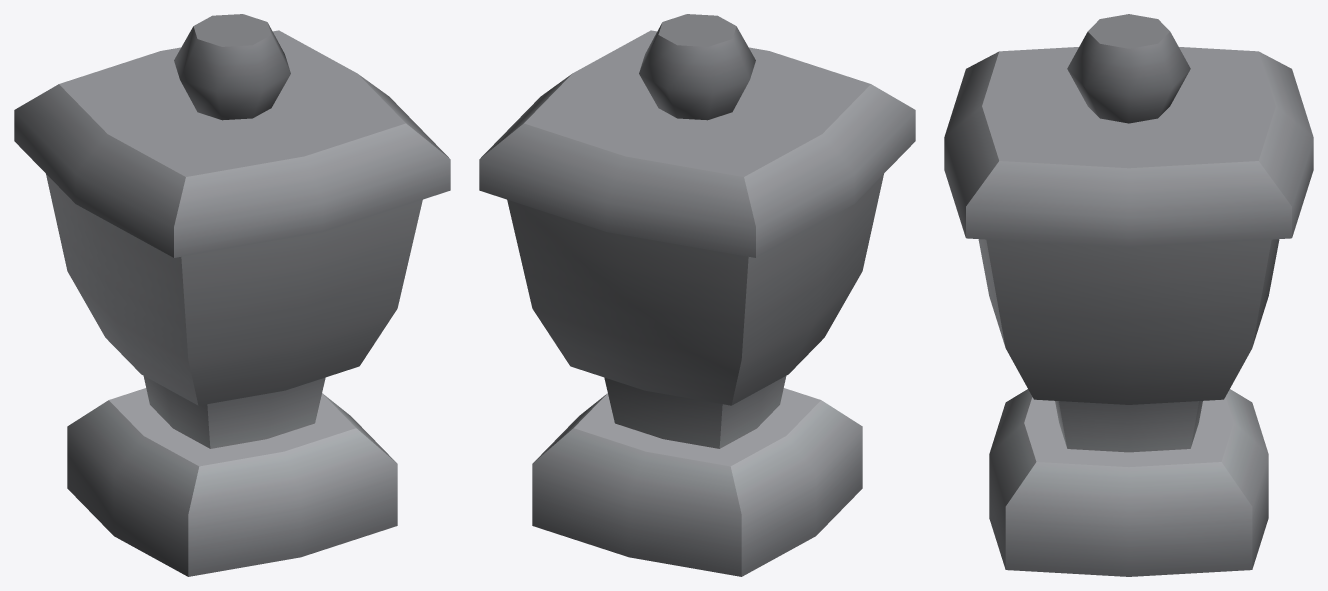
Rendered from urn-square.glb.
3 renders of one model, left to right at view 1: azimuth 30°, elevation 25°; view 2: azimuth 150°, elevation 25°; view 3: azimuth 270°, elevation 25°, orthographic. The views are drawn at different scales.
Visible parts, largest first — view 1: urn-square, lid; view 2: urn-square, lid; view 3: urn-square, lid.
Boxes of the visible parts, left/top/right/bottom form: urn-square: left=46, top=174, right=422, bottom=576; lid: left=14, top=14, right=450, bottom=257; urn-square: left=507, top=174, right=883, bottom=576; lid: left=479, top=14, right=915, bottom=257; urn-square: left=978, top=239, right=1279, bottom=576; lid: left=944, top=14, right=1313, bottom=247.
Bounding box in the file's own units: 0.3966 × 0.576 × 0.3966.
1 material, 1 textured.
